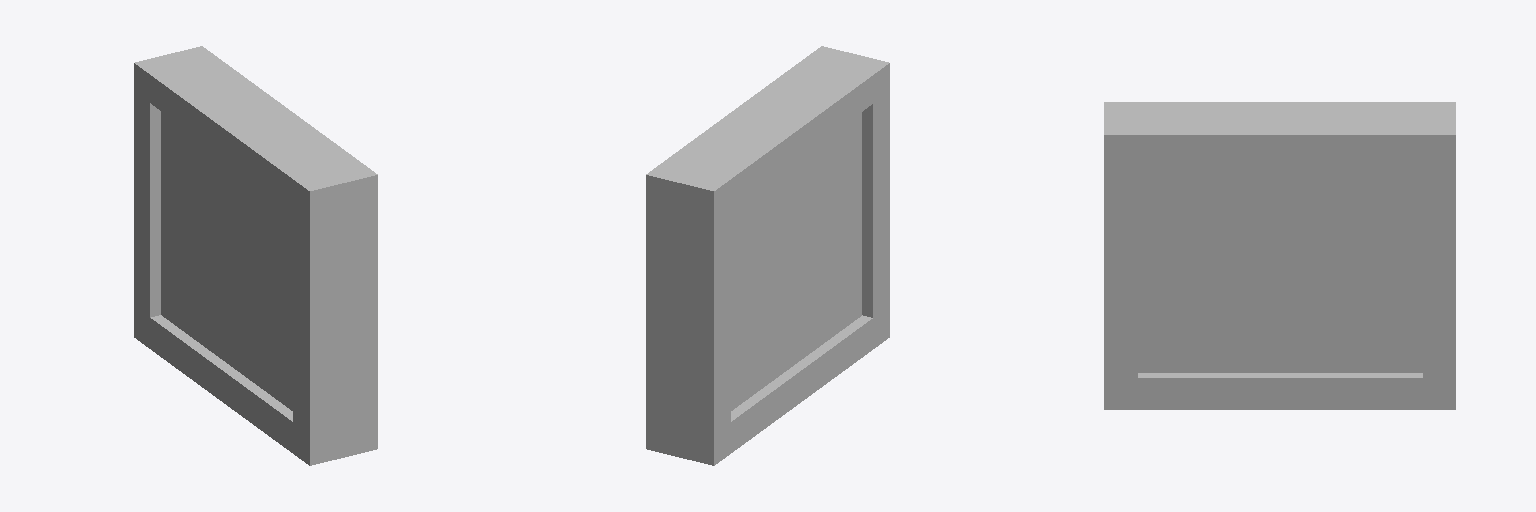
Rendered from Window.obj.
3 renders of one model, left to right at view 1: azimuth 30°, elevation 25°; view 2: azimuth 150°, elevation 25°; view 3: azimuth 270°, elevation 25°, orthographic.
Visible parts, largest first — view 1: frame, glass; view 2: frame, glass; view 3: glass, frame.
Part boxes in pixels (x1,y1,x2,y2): frame: (134, 46, 377, 465); glass: (161, 112, 292, 410); frame: (646, 46, 889, 465); glass: (731, 112, 861, 410); glass: (1138, 164, 1422, 372); frame: (1104, 102, 1455, 409).
Bounding box in the file's own units: 1 × 3.83 × 4.45.